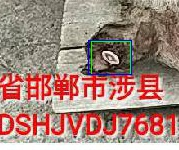text: (91, 41, 130, 74)
